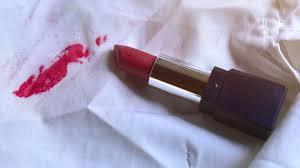kimchi: (17, 52, 90, 96), (60, 37, 99, 73), (87, 32, 109, 48)
